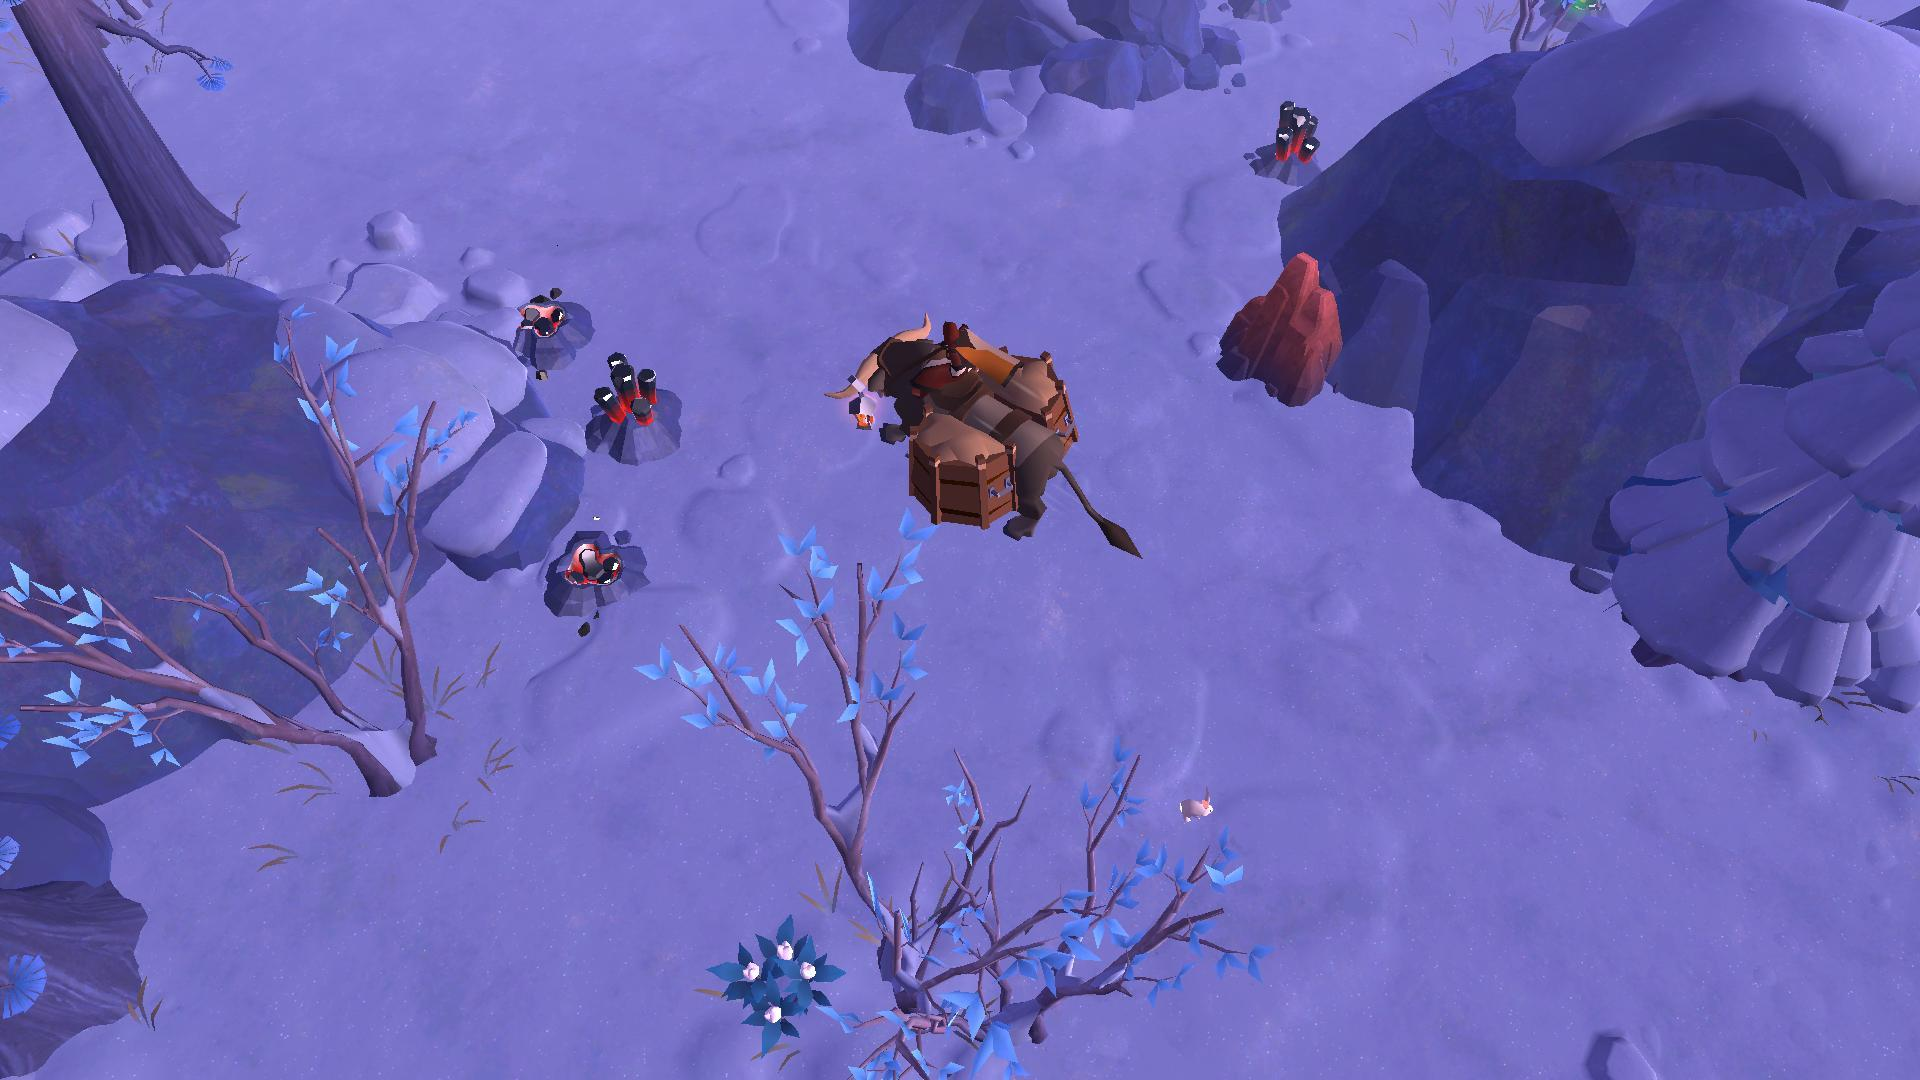fiber_t4: (717, 926, 835, 1042)
ore_t5: (593, 348, 661, 425), (1267, 94, 1324, 171)
rock_t5: (1213, 252, 1345, 407)
